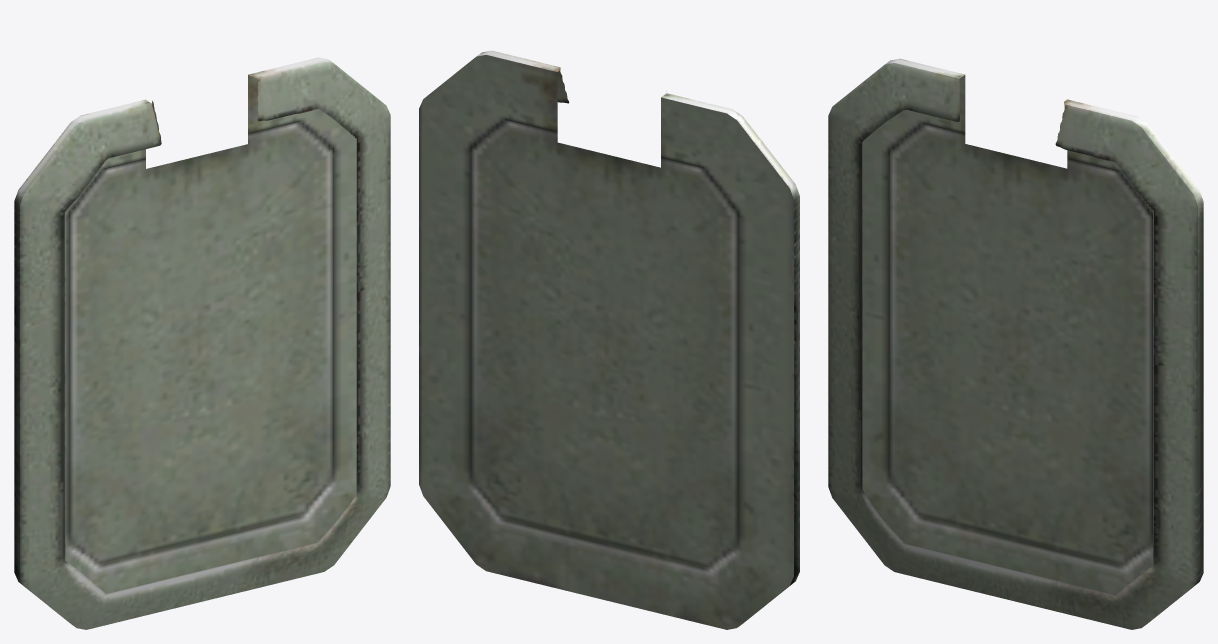
File: eqp_id_badge_s01_l0.fbx
The picture shows the model from 3 angles, left to right: view 1: azimuth 30°, elevation 25°; view 2: azimuth 150°, elevation 25°; view 3: azimuth 330°, elevation 25°; orthographic projection.
Visible parts, largest first — view 1: mesh_node; view 2: mesh_node; view 3: mesh_node.
Part boxes in pixels (<box>): mesh_node: <box>14,57,390,629</box>; mesh_node: <box>419,50,799,629</box>; mesh_node: <box>828,58,1203,629</box>.
Size of the model in its own units: 0.0574 by 0.0839 by 0.00914.
1 material, 1 textured.
